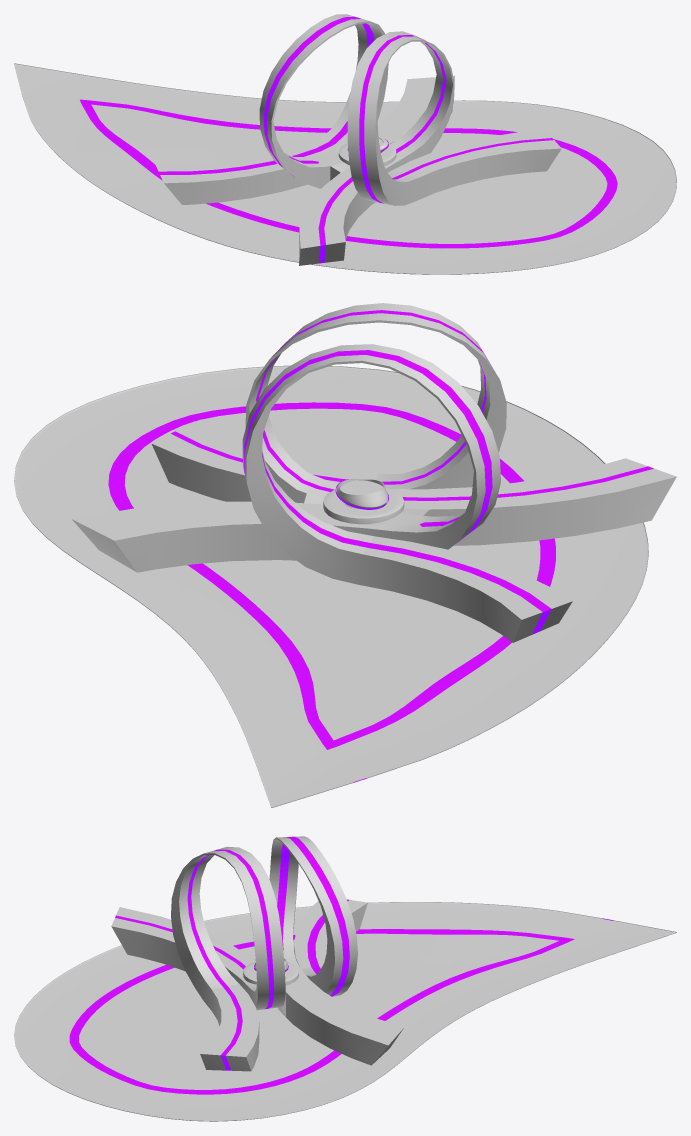
File: hall_part_803.fbx
The picture shows the model from 3 angles, top to bottom: view 1: azimuth 30°, elevation 25°; view 2: azimuth 150°, elevation 25°; view 3: azimuth 270°, elevation 25°; orthographic projection. The views are drawn at different scales.
Parts seen in each view (by area): view 1: hall_part_803.003; view 2: hall_part_803.003; view 3: hall_part_803.003.
Boxes of the visible parts, x1,y1,x2,y2 form: hall_part_803.003: (14,14,676,274); hall_part_803.003: (14,303,676,807); hall_part_803.003: (14,836,676,1121).
Size of the model in its own units: 1063 by 334 by 1359.
